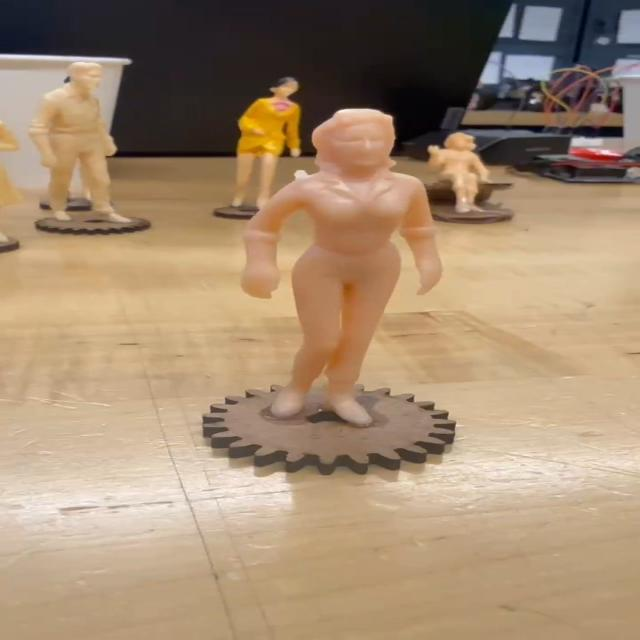Unauthorized: (220, 103, 464, 434)
